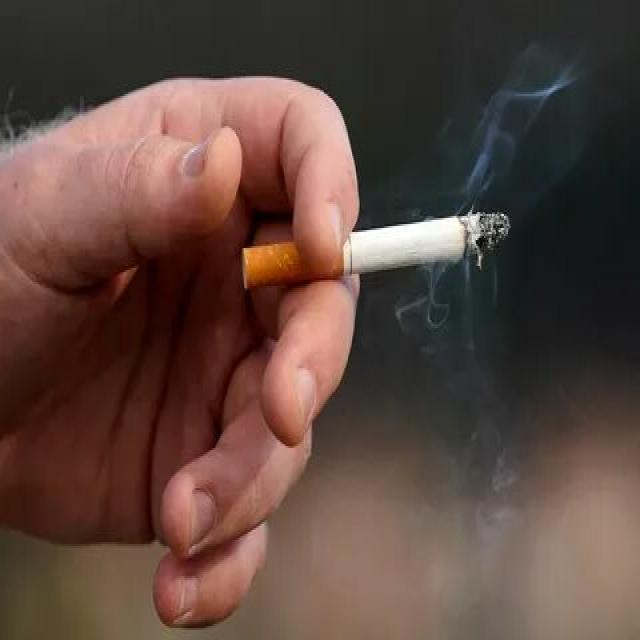smoke: (237, 208, 515, 298)
